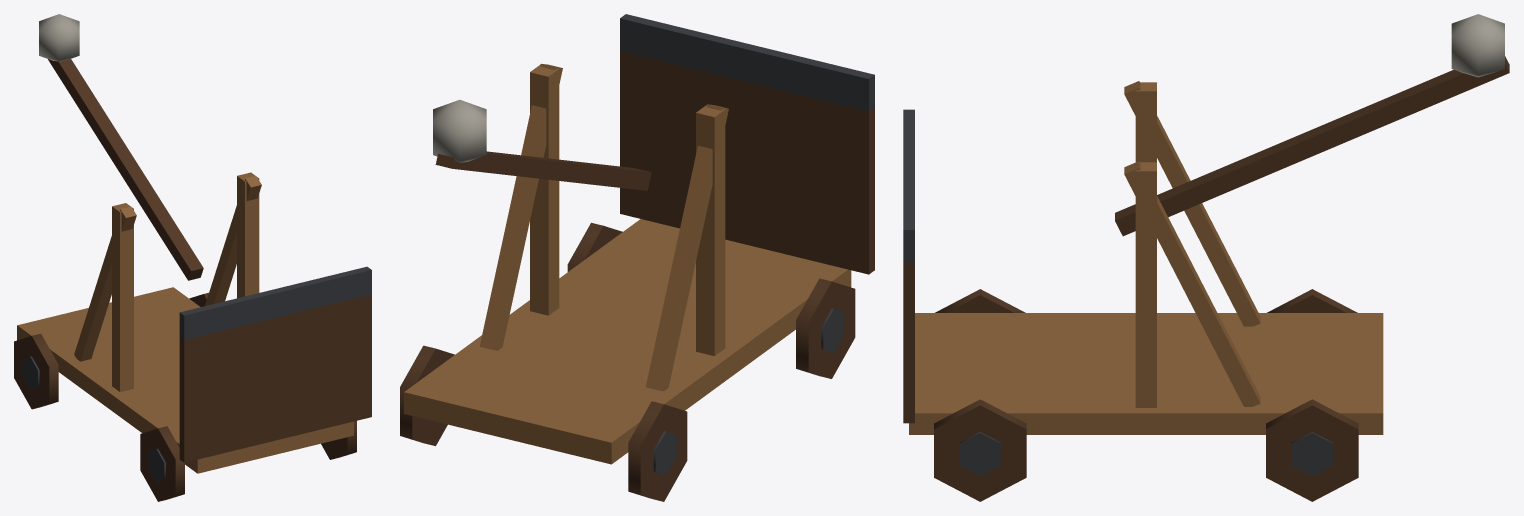
The model's file is unit_mil_catapult_a03_lod1.glb.
The picture shows the model from 3 angles, left to right: view 1: azimuth 30°, elevation 25°; view 2: azimuth 150°, elevation 25°; view 3: azimuth 270°, elevation 25°; orthographic projection. The views are drawn at different scales.
Parts seen in each view (by area): view 1: body, arm, wheel_0, wheel_2, wheel_3; view 2: body, arm, wheel_2, wheel_0, wheel_1, wheel_3; view 3: body, arm, wheel_3, wheel_1, wheel_0, wheel_2.
Boxes of the visible parts, bbox=[...] form: body: bbox=[17, 172, 371, 473]; arm: bbox=[39, 14, 203, 280]; wheel_0: bbox=[14, 333, 58, 409]; wheel_2: bbox=[140, 426, 184, 501]; wheel_3: bbox=[321, 421, 356, 459]; body: bbox=[404, 14, 874, 464]; arm: bbox=[433, 99, 651, 190]; wheel_2: bbox=[796, 278, 855, 378]; wheel_0: bbox=[628, 401, 687, 501]; wheel_1: bbox=[400, 345, 454, 446]; wheel_3: bbox=[567, 222, 622, 271]; body: bbox=[903, 81, 1383, 434]; arm: bbox=[1115, 14, 1509, 236]; wheel_3: bbox=[934, 399, 1026, 501]; wheel_1: bbox=[1266, 399, 1358, 501]; wheel_0: bbox=[1267, 289, 1357, 312]; wheel_2: bbox=[935, 289, 1025, 312].
Size of the model in its own units: 2.4 by 4 by 5.12.
